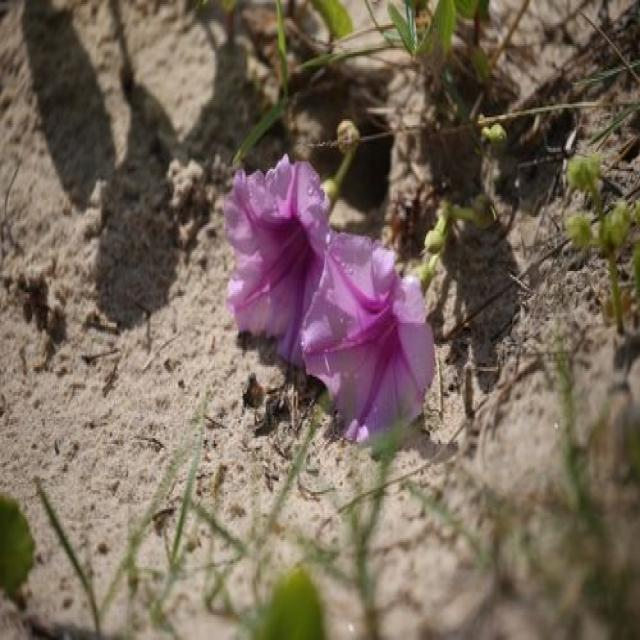ipomoea: (219, 150, 439, 452), (298, 228, 439, 450), (220, 152, 336, 371)
